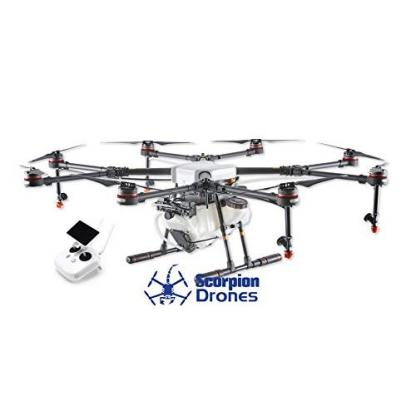drone: (17, 126, 401, 276)
